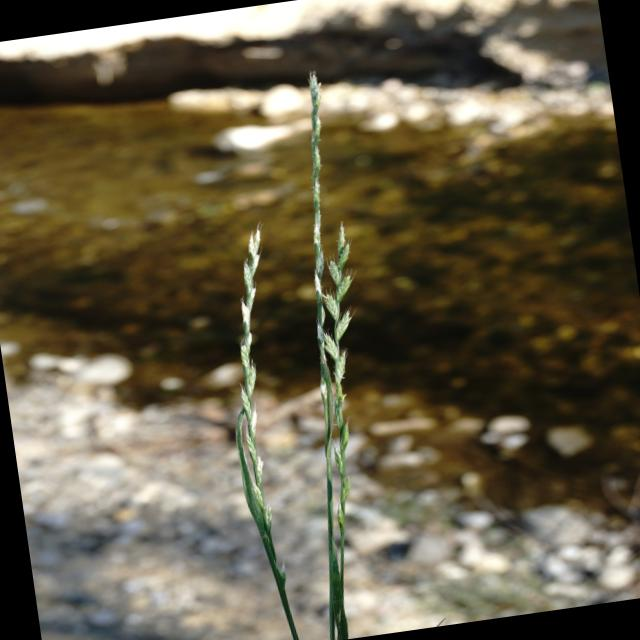Lolium: (270, 84, 412, 616), (202, 226, 327, 640)
